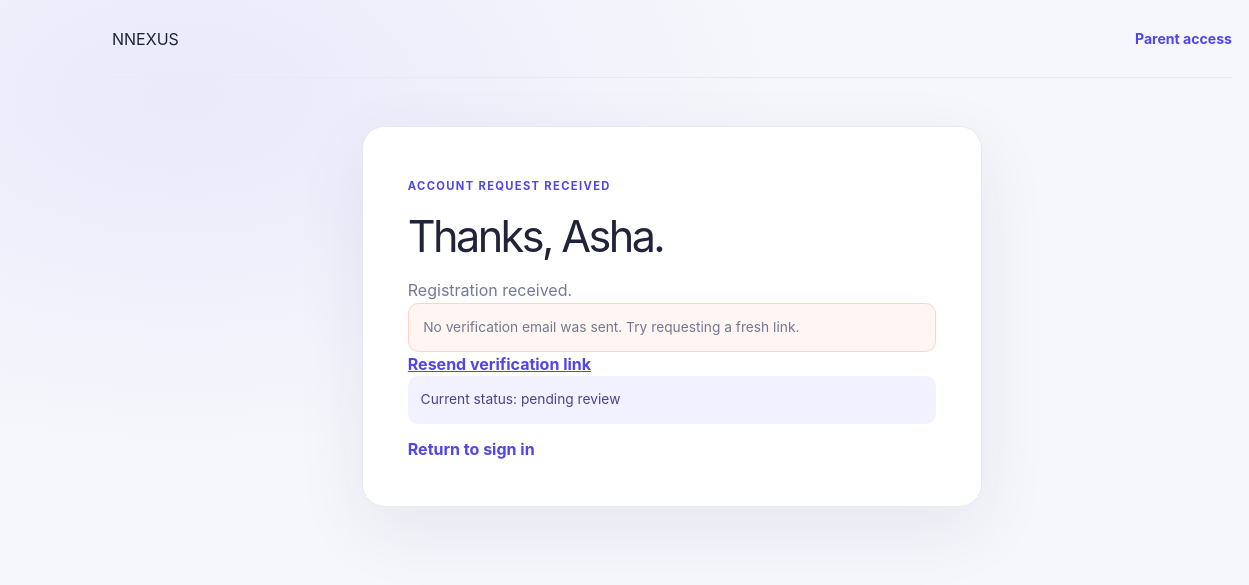
Scenario: SignupPage › submits student details without exposing an admin signup option
This screenshot has width=1249, height=585.
Earlier steps of the test are not shown.
Expected: the text "Current status: pending review" is shown, [408, 376, 936, 424]
Click the button "Resend verification link".
click(499, 364)  # box [408, 352, 591, 376]
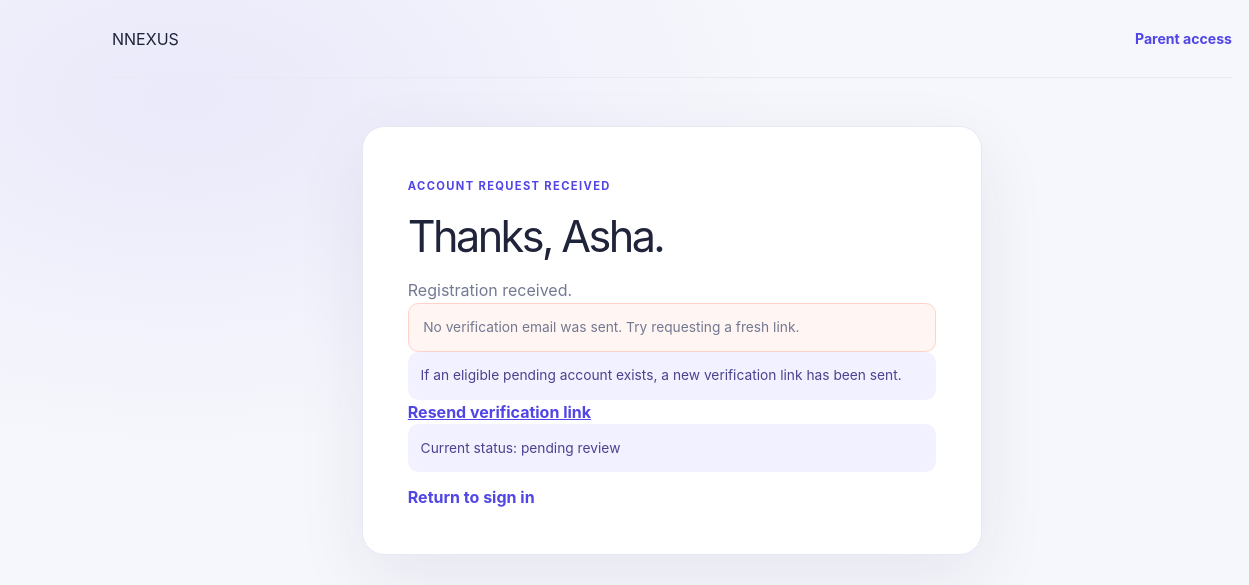
Result: the message "If an eligible pending account exists, a new verification link has been sent." is shown at [408, 352, 936, 400]
